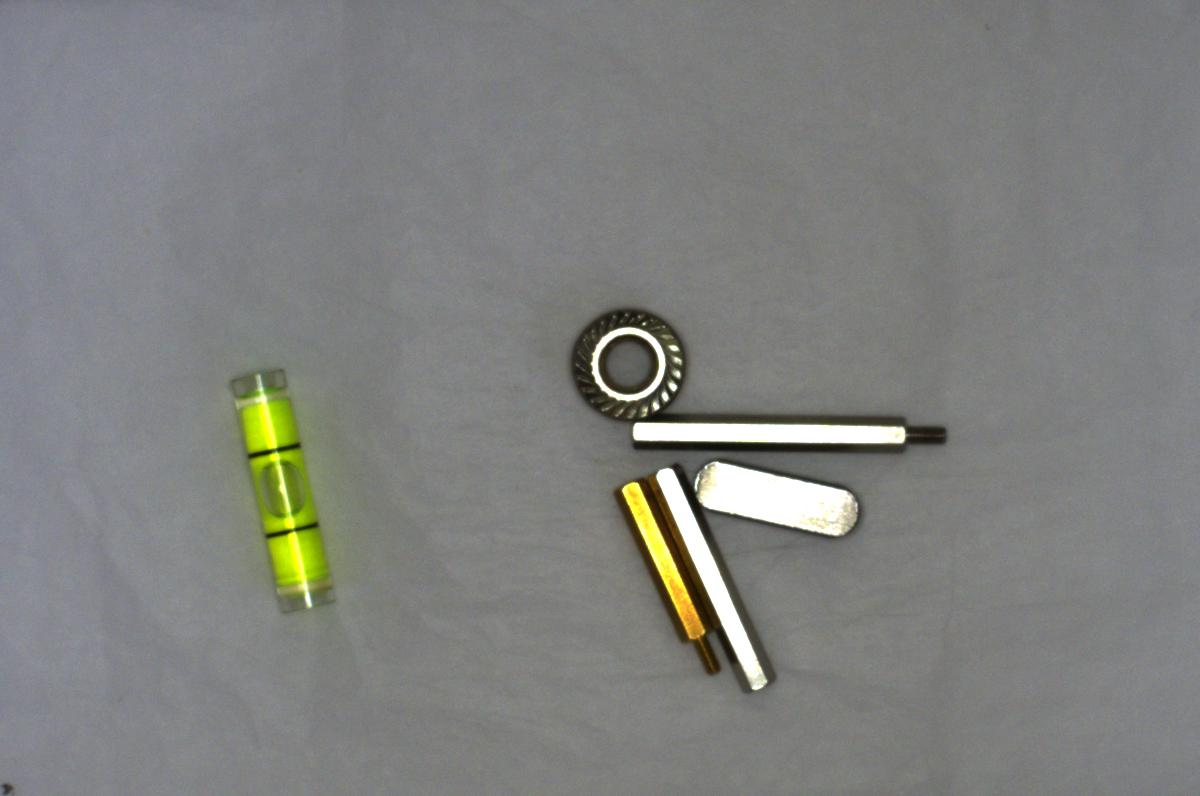Double hexagonal column: (646, 459, 780, 704)
Flange nut: (557, 298, 692, 424)
Hexagon pillar: (610, 465, 729, 687)
Hexagonal steel column: (625, 405, 955, 460)
Horizontal bubble: (226, 353, 350, 632)
Keybar: (684, 458, 867, 542)
